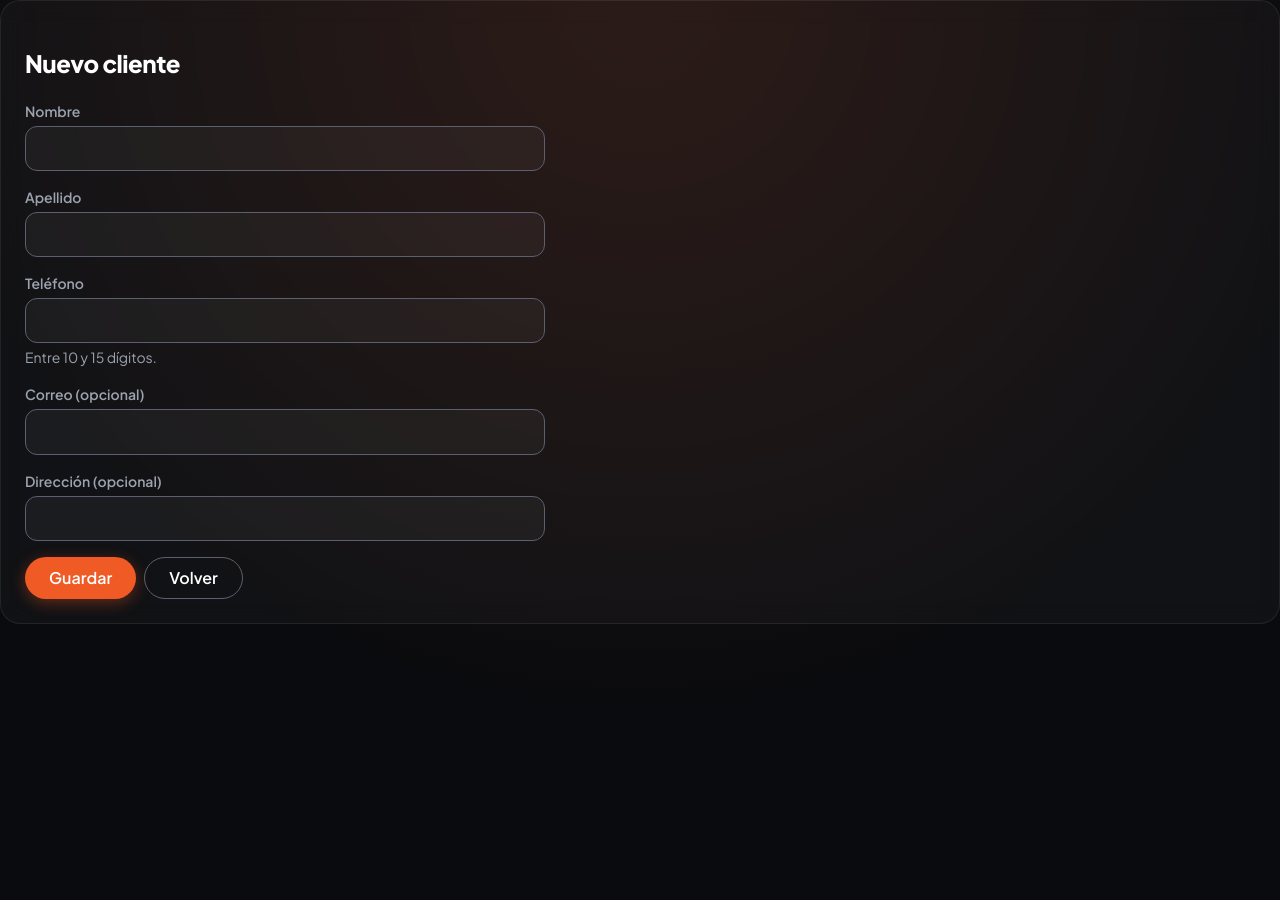
formulario de clientes › marca_los_campos_obligatorios_vacios_sin_llamar_a_la_api
Click the button "Guardar": point(81, 578) x1=25 y1=557 x2=136 y2=599
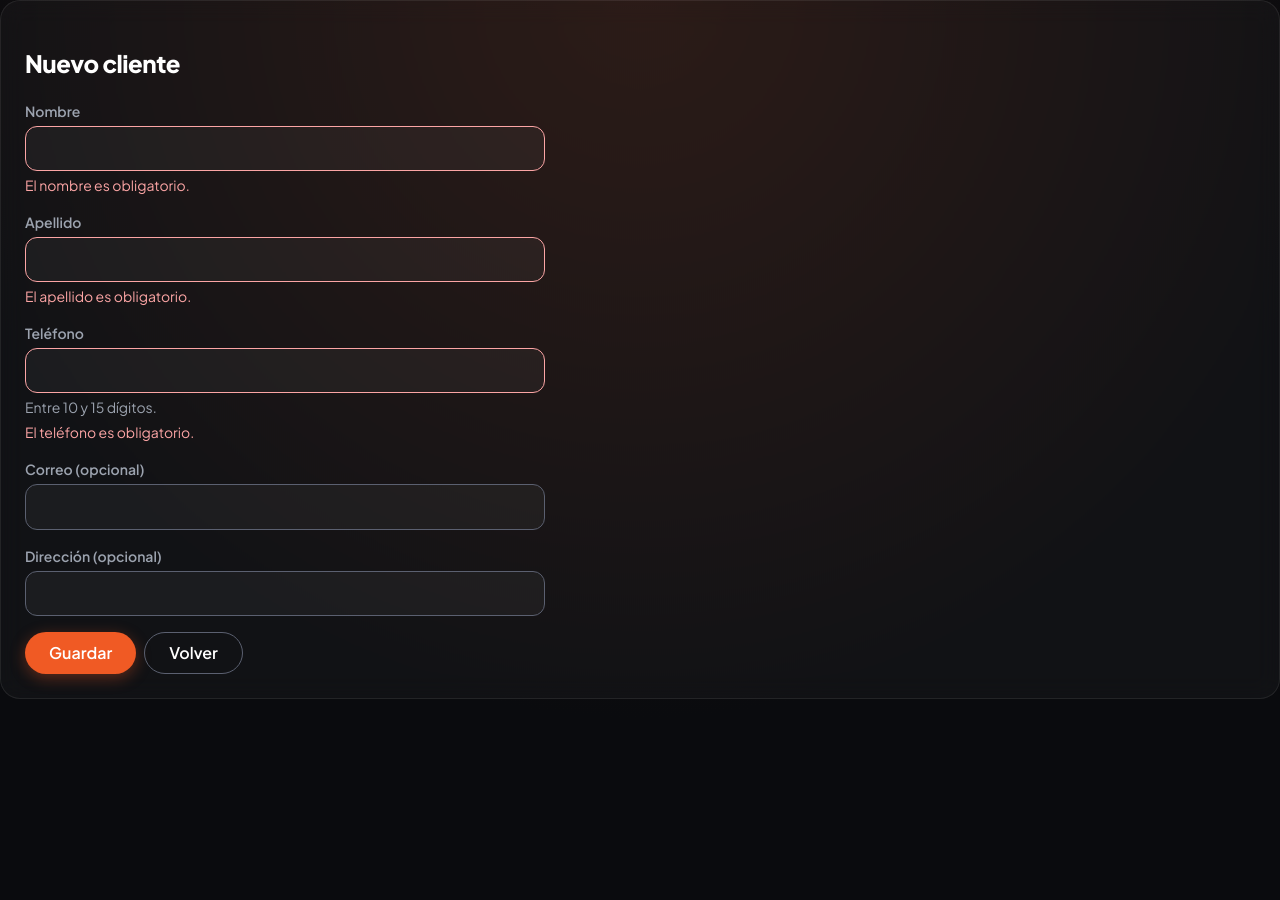
Check: the text "El nombre es obligatorio." is shown, box x1=25 y1=176 x2=190 y2=194
Check: the text "El apellido es obligatorio." is shown, box x1=25 y1=287 x2=191 y2=305
Check: the text "El teléfono es obligatorio." is shown, box x1=25 y1=423 x2=194 y2=441
